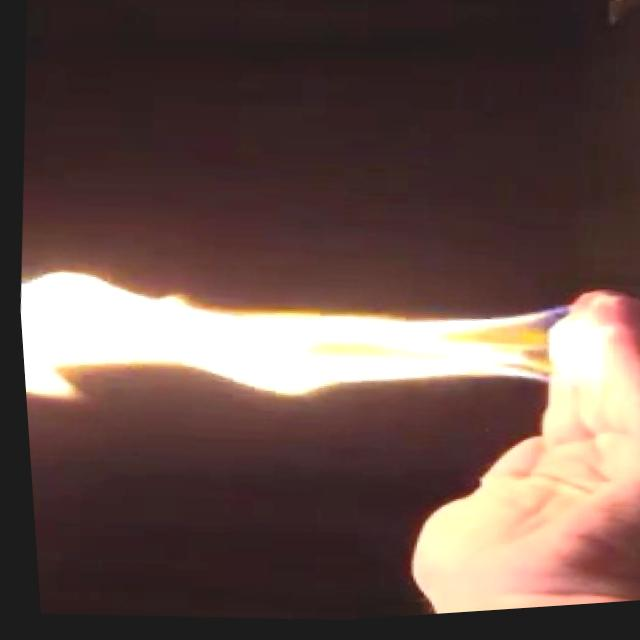helmet: (14, 227, 627, 457)
